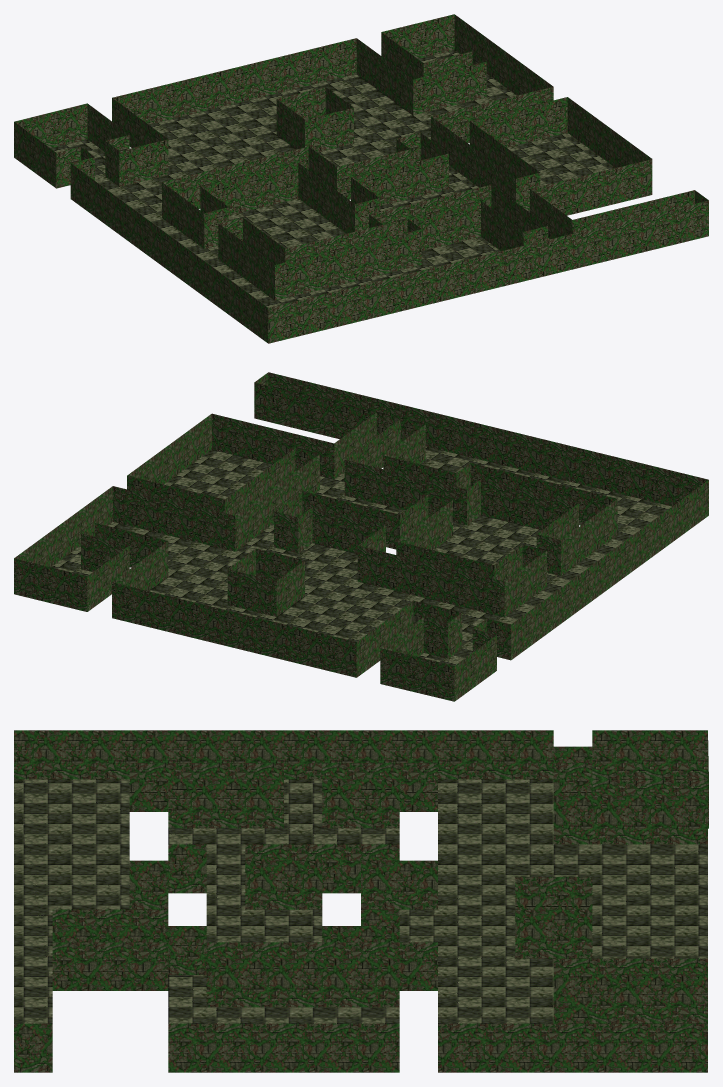
Rendered from TestArea.fbx.
The picture shows the model from 3 angles, top to bottom: view 1: azimuth 30°, elevation 25°; view 2: azimuth 150°, elevation 25°; view 3: azimuth 270°, elevation 25°; orthographic projection. The views are drawn at different scales.
Visible parts, largest first — view 1: TestArea; view 2: TestArea; view 3: TestArea.
Part boxes in pixels (left/top/right/bottom): TestArea: left=14, top=14, right=708, bottom=343; TestArea: left=14, top=372, right=708, bottom=701; TestArea: left=14, top=730, right=708, bottom=1072.
Bounding box in the file's own units: 180 × 14 × 180.
